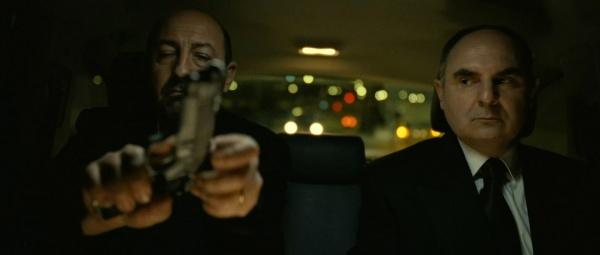Gun: (99, 62, 229, 222)
